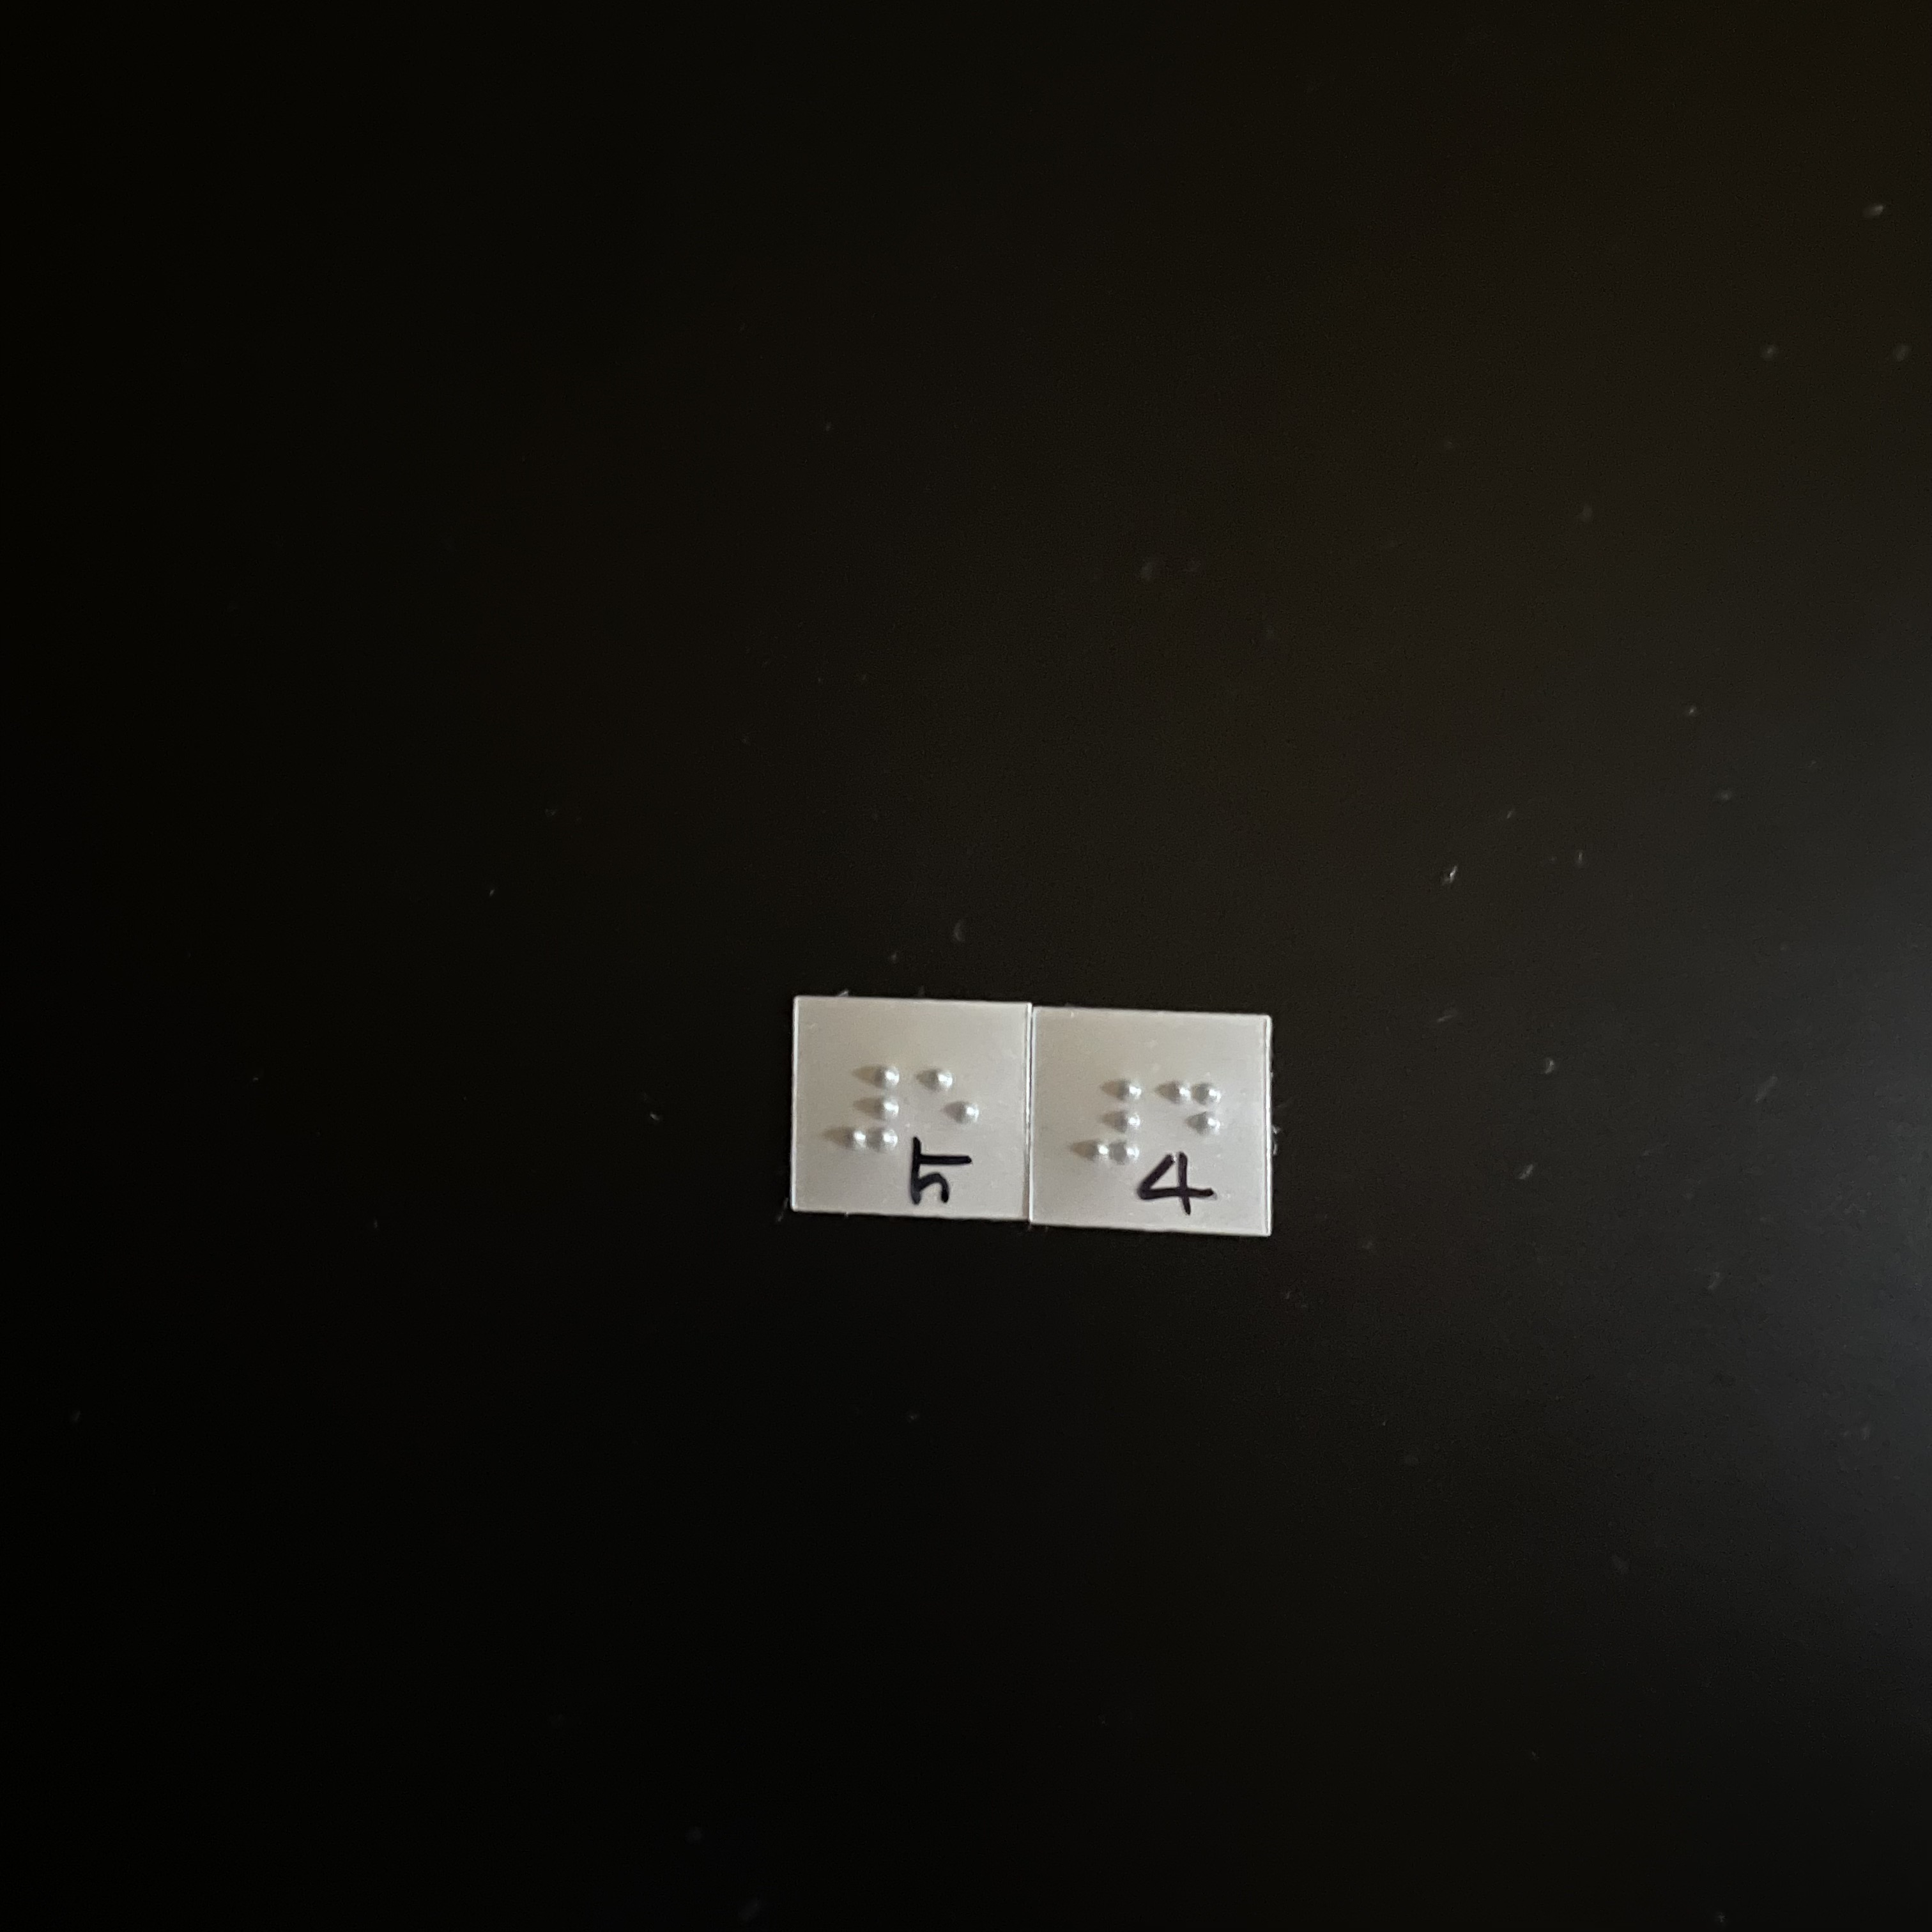#: (1073, 1071, 1153, 1174), (838, 1059, 912, 1156)
d: (1157, 1068, 1227, 1181)
e: (917, 1057, 985, 1158)
